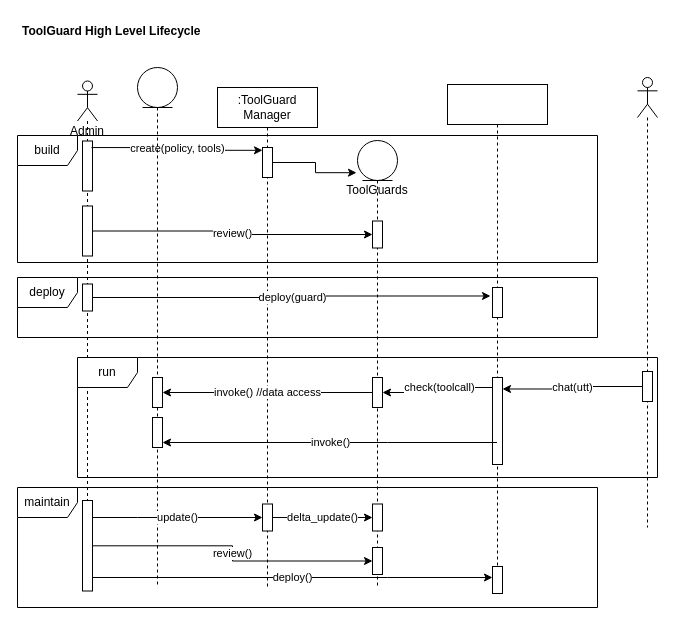
Some shapes in this 676 by 625 pixel diagram are drawn without their labels. The box of each missing label's shape, as (x1, y1, x2, y2) in pixels:
:Client an agent or MCPGateway: (446, 84, 548, 588)
End user: (636, 76, 658, 528)
tools: (136, 66, 178, 588)
